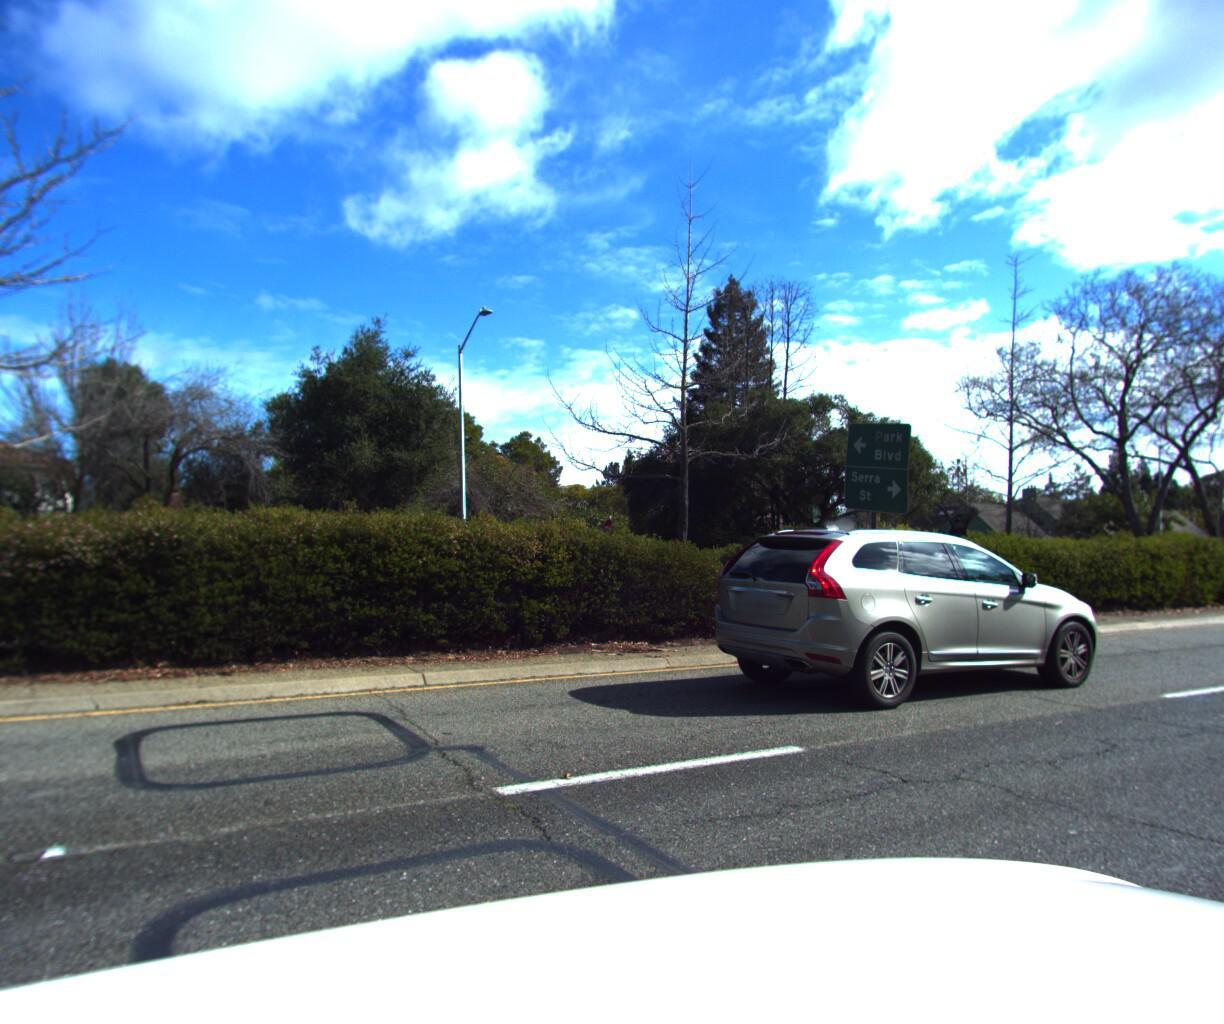car: (685, 514, 1116, 718)
